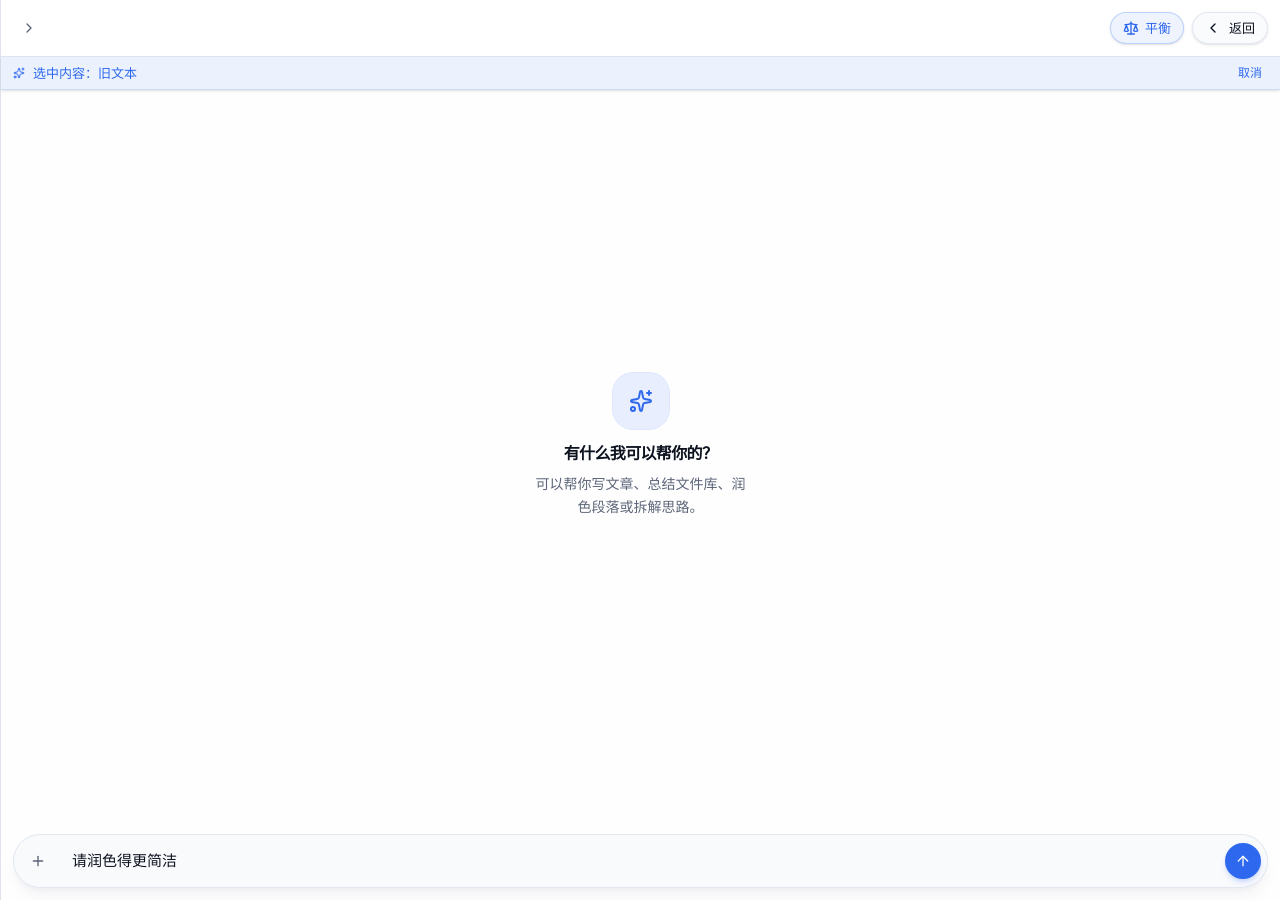
Test case: AISidebar 博客 AI 修改编排 › 请求失败时取消补丁并停止当前会话，不刷新文章
The width and height of the screenshot is (1280, 900).
Click the button named "发送消息" at x=1243, y=861, box [1225,843,1261,879]
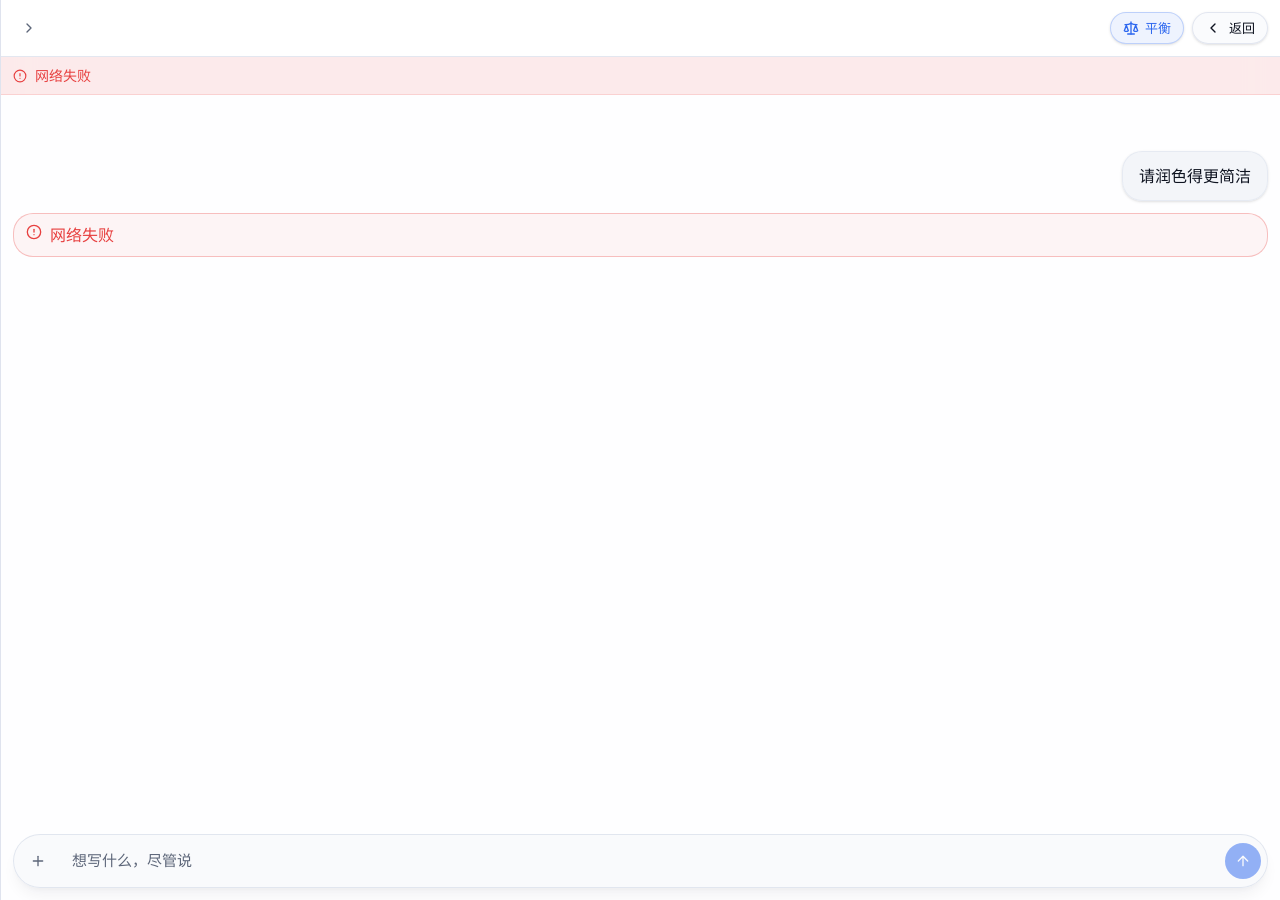
Check: the 1st text "网络失败" is shown, box [35,67,91,84]
